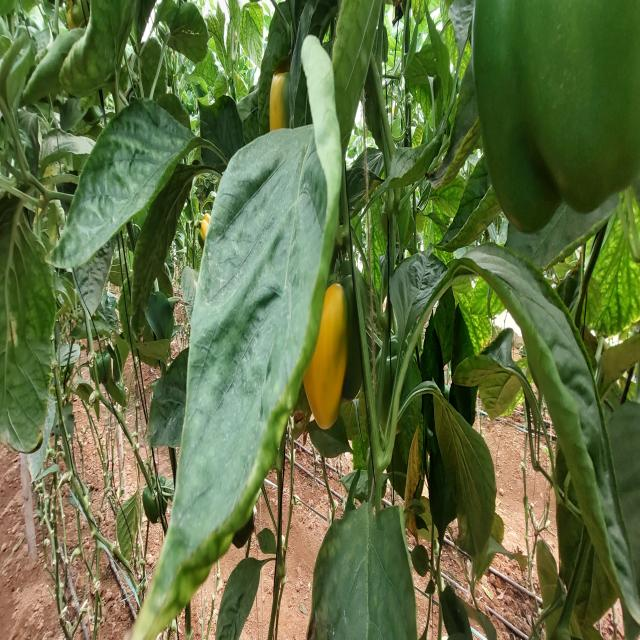Green--Not-ready-to-harvest: (477, 9, 640, 242)
GreenishYellow--Can-be-Harvested: (282, 238, 372, 446), (253, 46, 326, 178)
